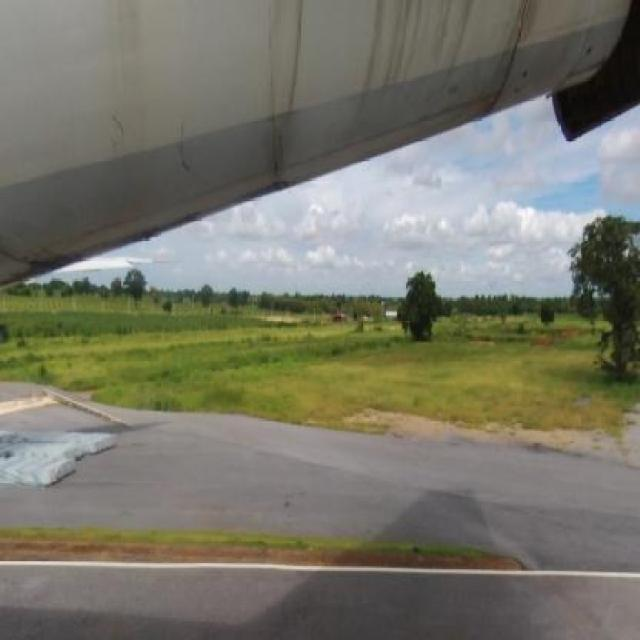Rust: (357, 1, 474, 130), (243, 0, 318, 198), (99, 104, 226, 196), (494, 0, 540, 129), (6, 227, 102, 288)
